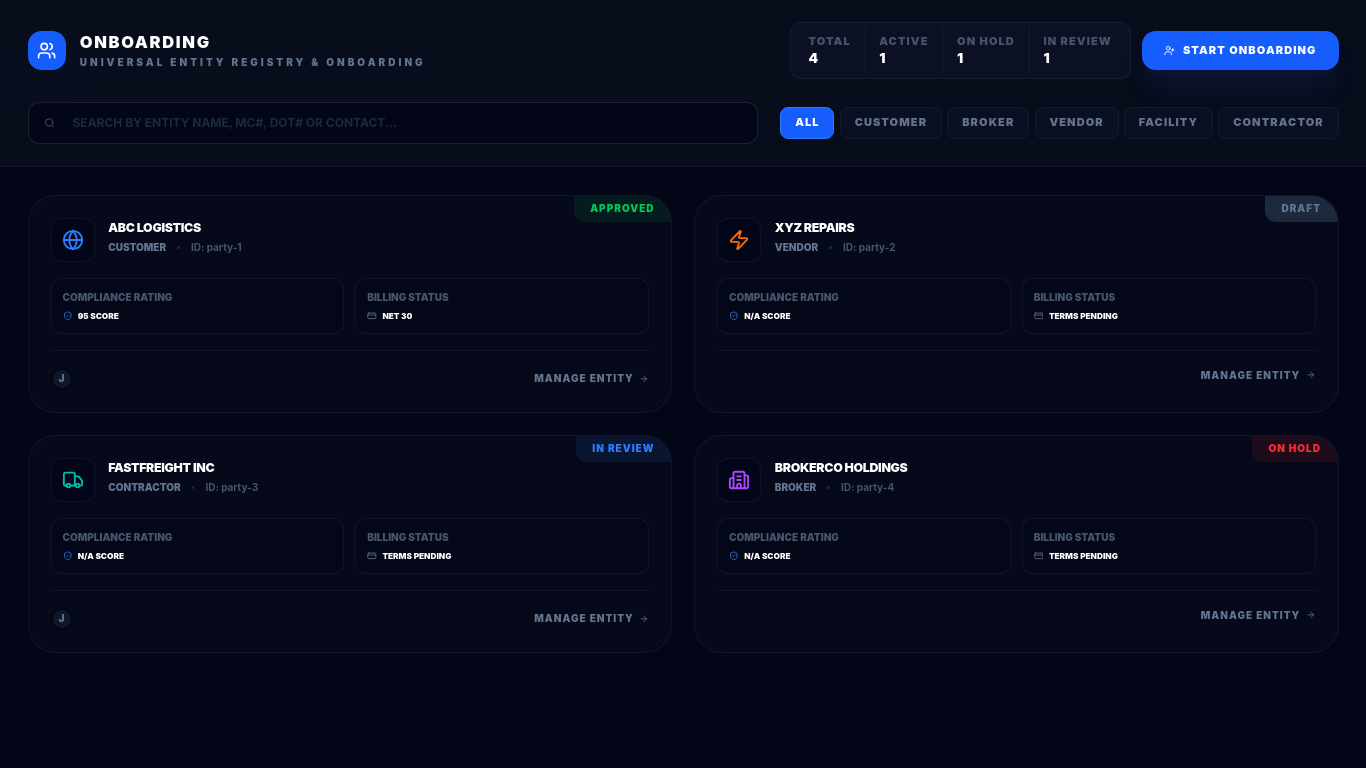
NetworkPortal component › filters parties by type when clicking a type filter button
Check: the heading "ABC Logistics" is shown, box [108,220,201,235]
Click the button "Broker": (988, 123) [947,106,1029,139]
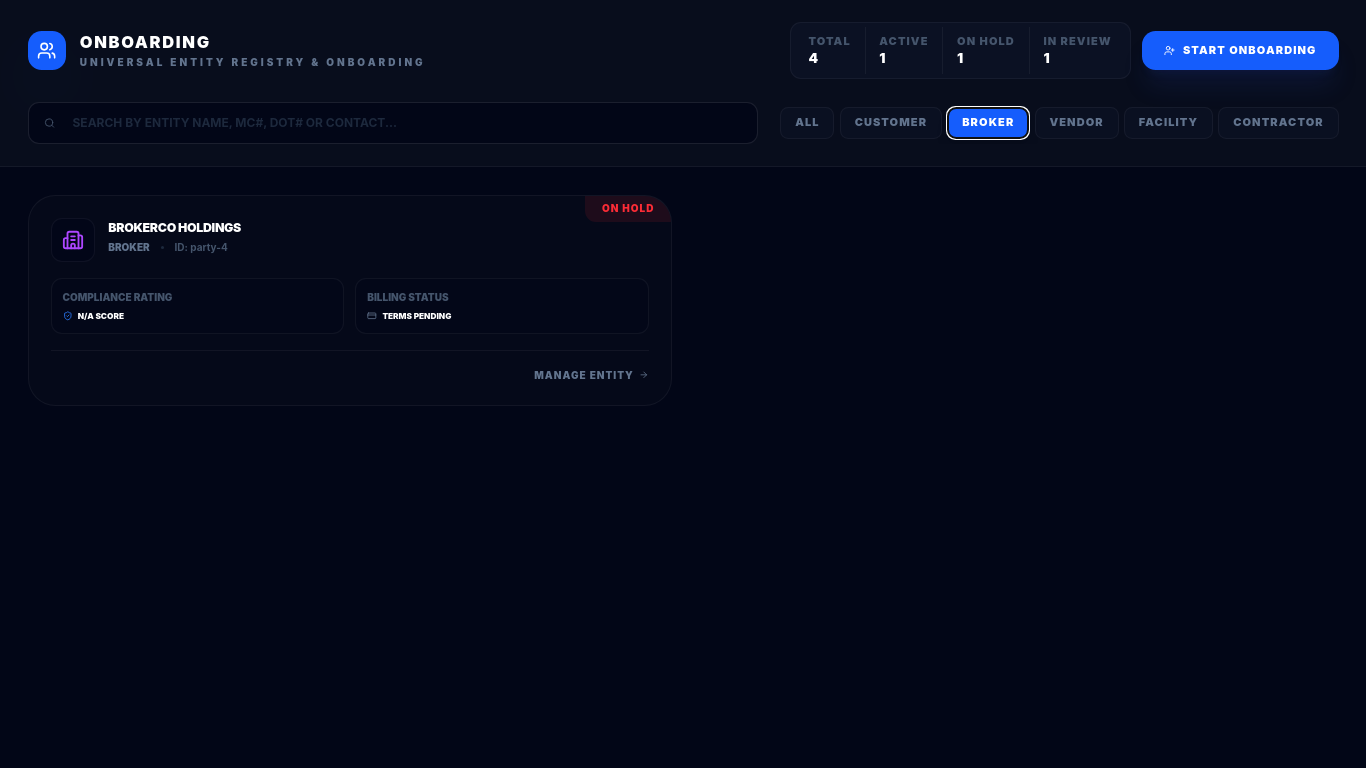
Check: the heading "BrokerCo Holdings" is shown, box [108,220,241,235]
Check: the heading "ABC Logistics" is gone
Check: the heading "FastFreight Inc" is gone
